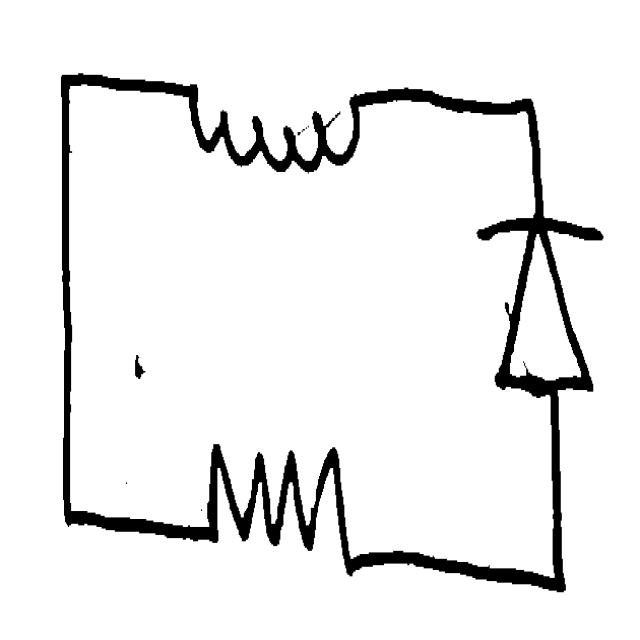diode: (474, 183, 608, 412)
inductor: (172, 66, 371, 180)
resistor: (196, 429, 373, 598)
